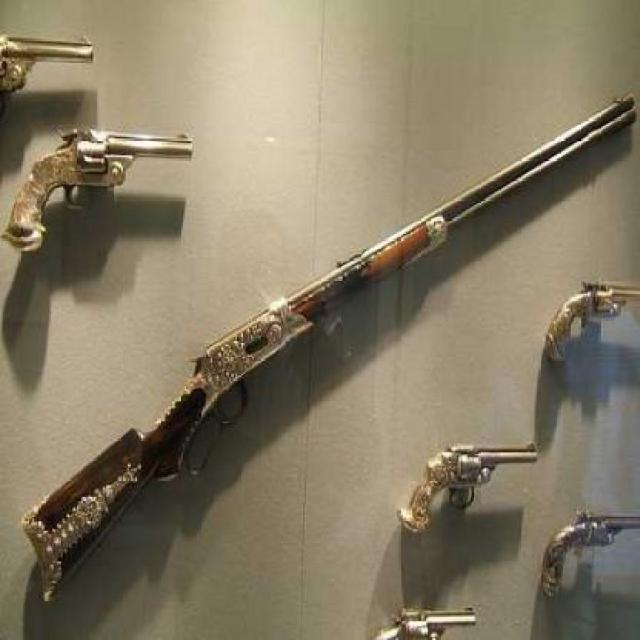weapon: (35, 90, 640, 602), (11, 128, 191, 242), (536, 507, 640, 594), (408, 448, 522, 520), (548, 280, 640, 349)
